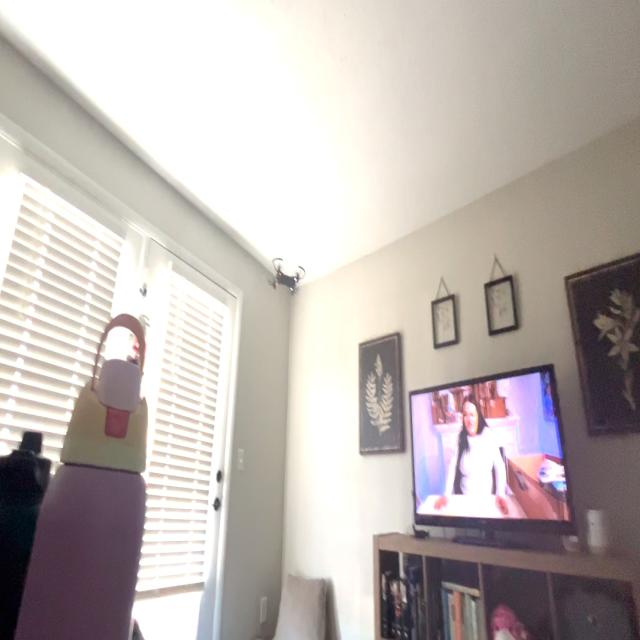drone: (253, 241, 309, 316)
